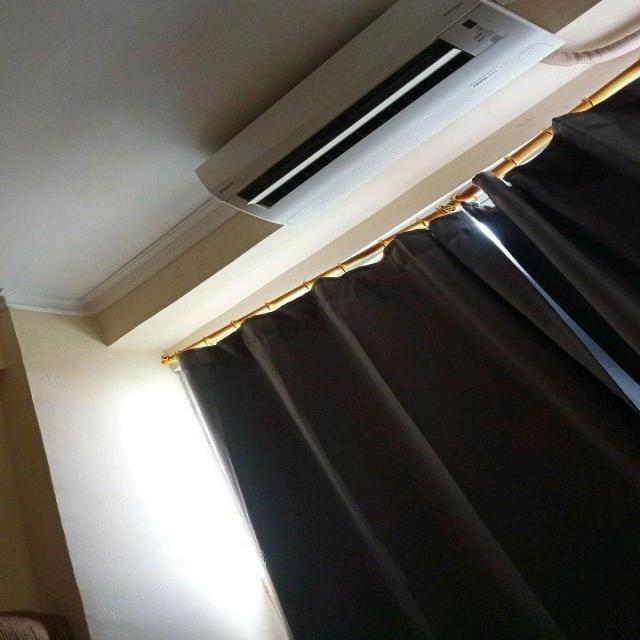AC: (193, 0, 565, 226)
